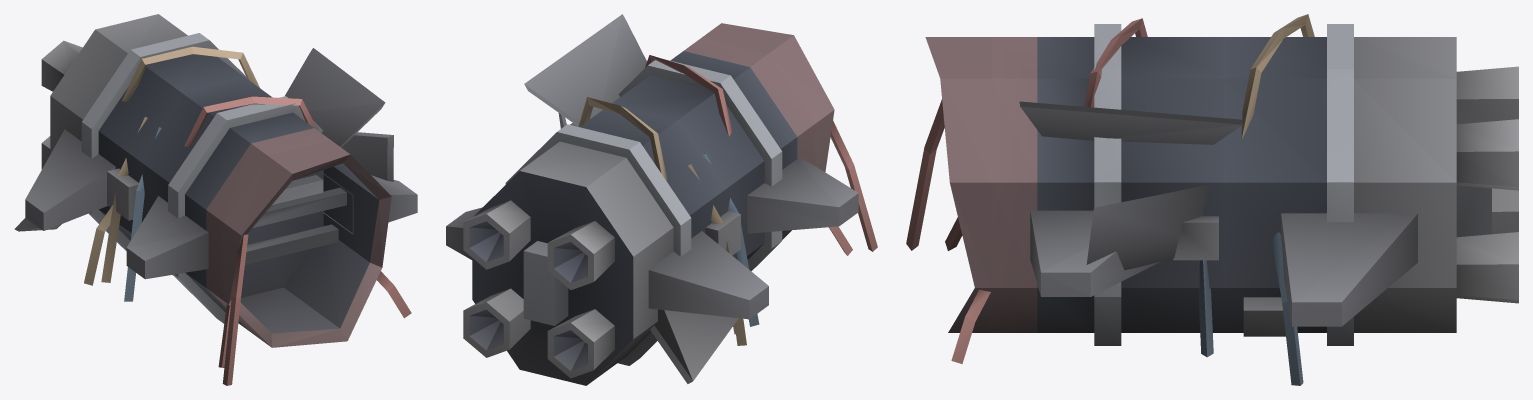
File: wreck.glb
The picture shows the model from 3 angles, left to right: view 1: azimuth 30°, elevation 25°; view 2: azimuth 150°, elevation 25°; view 3: azimuth 270°, elevation 25°; orthographic projection. The views are drawn at different scales.
Parts seen in each view (by area): view 1: wreck; view 2: wreck; view 3: wreck.
Boxes of the visible parts, bbox=[...] form: wreck: bbox=[14, 14, 417, 385]; wreck: bbox=[446, 14, 877, 385]; wreck: bbox=[906, 14, 1518, 385].
Size of the model in its own units: 3.46 by 2.51 by 4.72.
